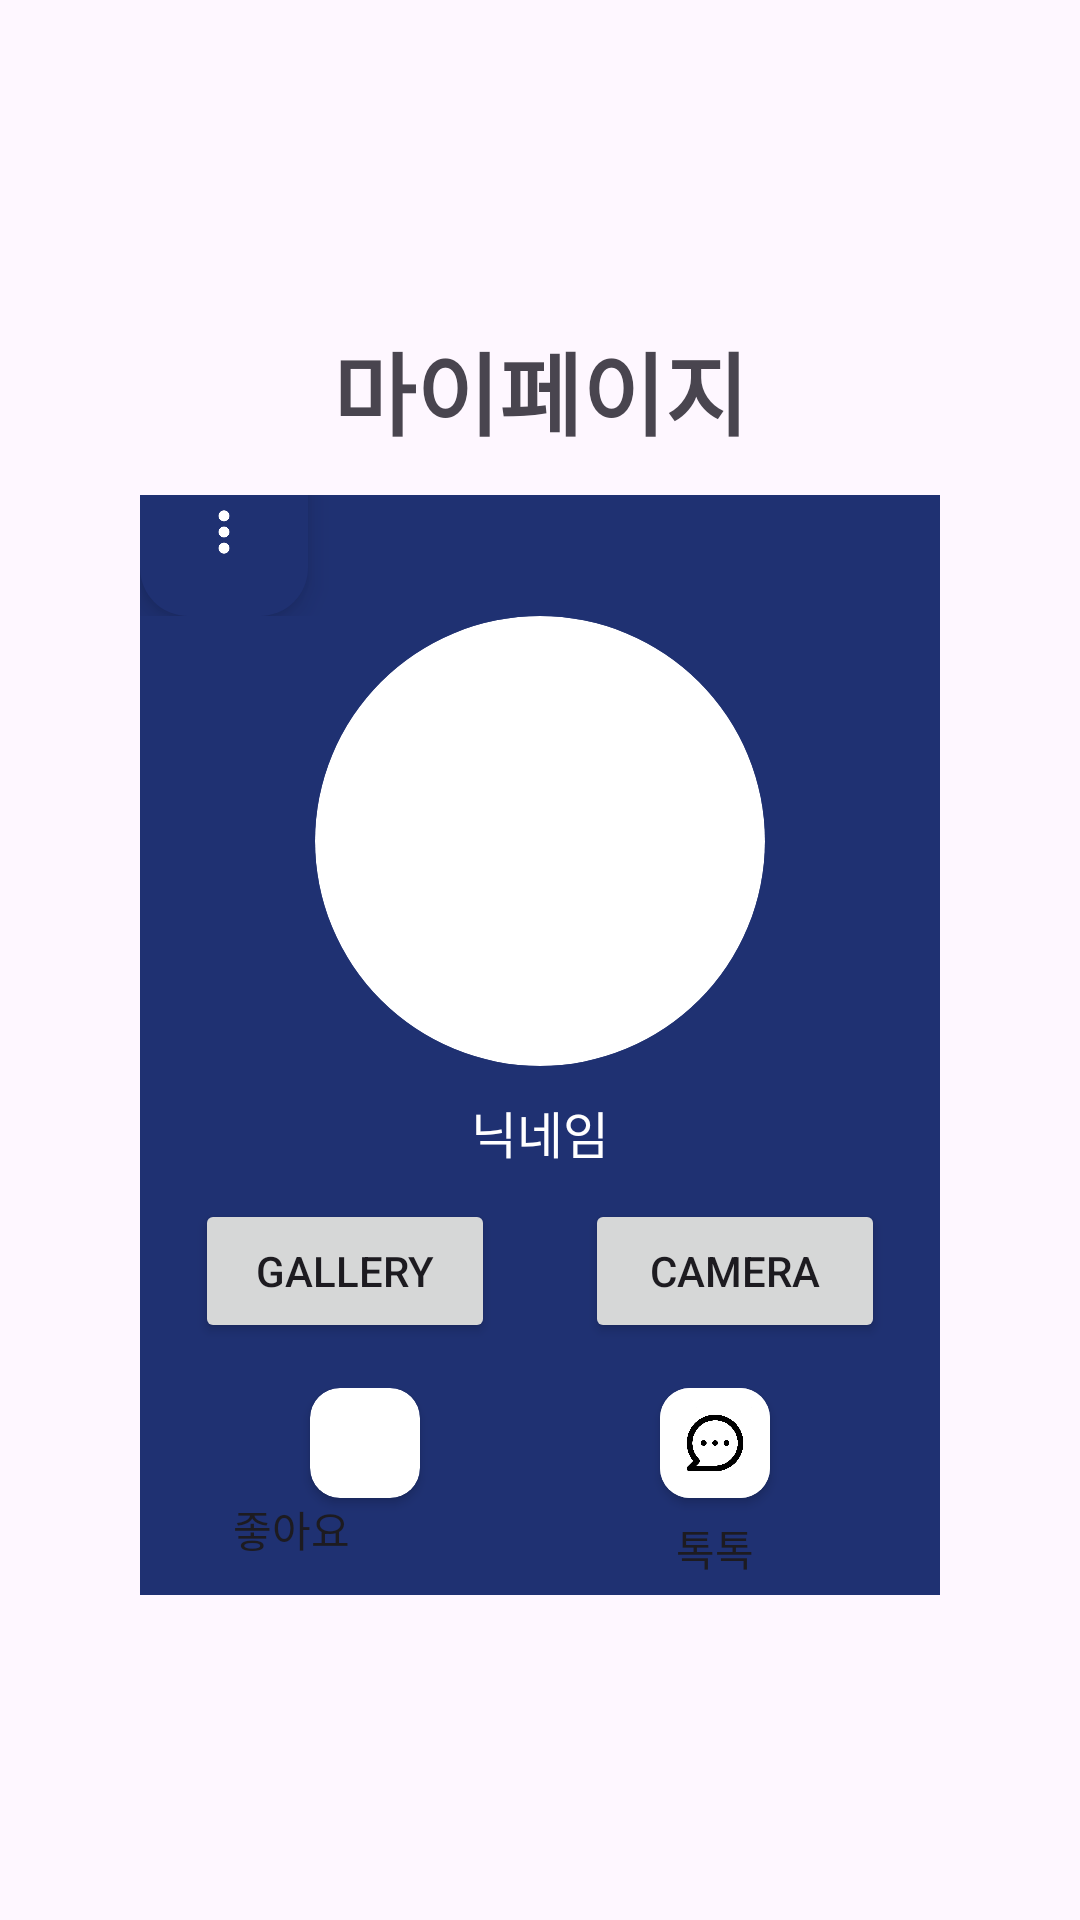

Screen size 1080w x 1920h. Icon name, then its center in pixels as (x,y):
ttalk: (715,1443)
